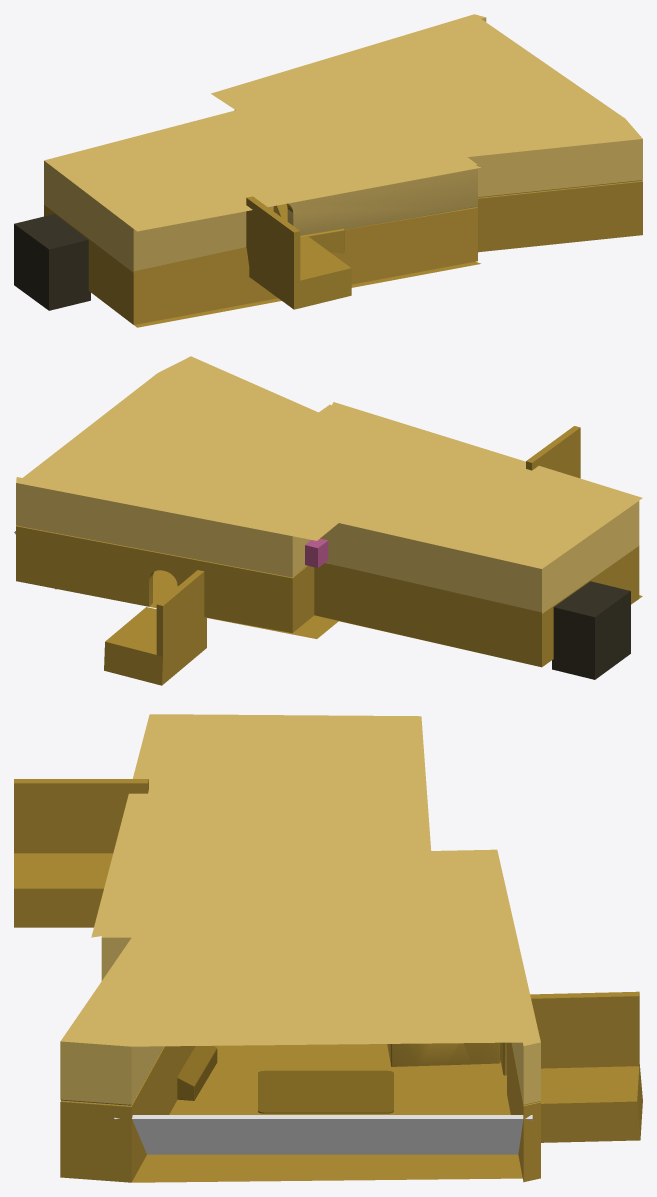
The model's file is yellowroom.fbx.
3 renders of one model, top to bottom at view 1: azimuth 30°, elevation 25°; view 2: azimuth 150°, elevation 25°; view 3: azimuth 270°, elevation 25°, orthographic. The views are drawn at different scales.
Parts seen in each view (by area): view 1: celing, walls_lower, walls_higher, continued_1, backbox, floor, view; view 2: walls_lower, celing, walls_higher, continued_2, backbox, continued_1, floor, pinkobx; view 3: celing, walls_lower, floor, ramp_1, continued_2, continued_1, walls_higher, matt_1, castle, chest.
Boxes of the visible parts, <box> form: celing: <box>97,19,624,231</box>; walls_lower: <box>44,14,642,272</box>; walls_higher: <box>44,181,642,324</box>; continued_1: <box>246,196,351,309</box>; backbox: <box>14,214,90,310</box>; floor: <box>134,206,480,327</box>; view: <box>273,204,344,253</box>; walls_lower: <box>16,356,639,613</box>; celing: <box>23,373,642,568</box>; walls_higher: <box>16,525,639,667</box>; continued_2: <box>104,570,206,685</box>; backbox: <box>552,581,630,679</box>; continued_1: <box>526,426,580,478</box>; floor: <box>149,570,642,656</box>; pinkobx: <box>305,538,328,567</box>; celing: <box>91,714,539,1046</box>; walls_lower: <box>60,714,540,1105</box>; floor: <box>132,1044,522,1182</box>; ramp_1: <box>114,1115,532,1154</box>; continued_2: <box>530,991,642,1142</box>; continued_1: <box>14,779,148,927</box>; walls_higher: <box>60,1042,540,1182</box>; matt_1: <box>258,1070,393,1113</box>; castle: <box>387,1042,500,1066</box>; chest: <box>177,1045,217,1100</box>.
Bounding box in the file's own units: 4270 × 1067 × 3164.
